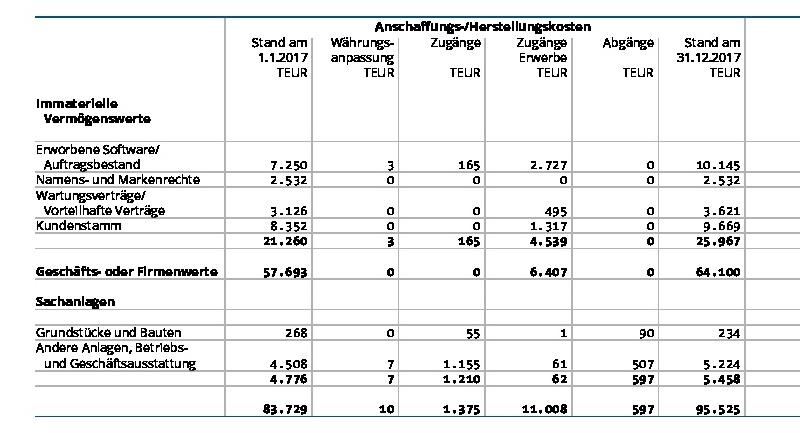table: (0, 0, 800, 433)
